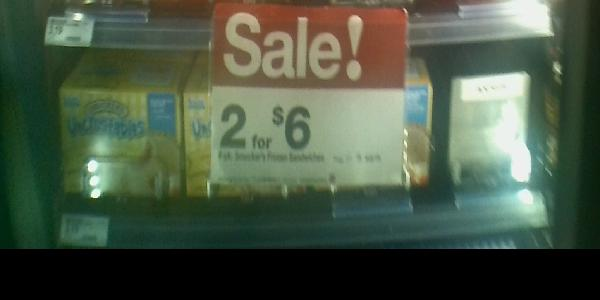icecream: (185, 56, 431, 201), (57, 85, 184, 208)
